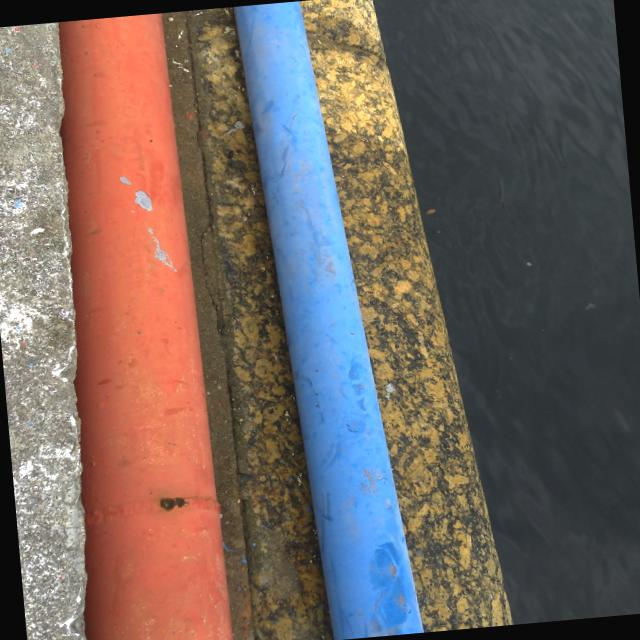gas: (227, 0, 426, 640), (31, 11, 230, 640)
